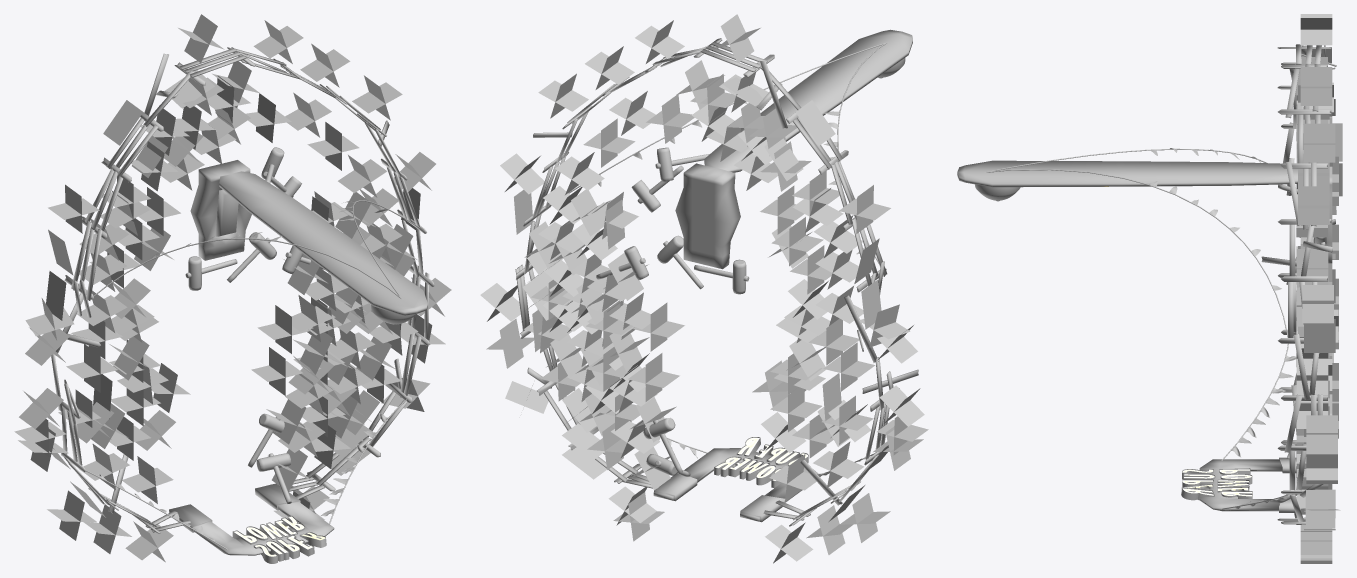
File: SuperPower.fbx
3 views of the same model, side by side, from view 1: azimuth 30°, elevation 25°; view 2: azimuth 150°, elevation 25°; view 3: azimuth 270°, elevation 25° (orthographic). The views are drawn at different scales.
Parts seen in each view (by area): view 1: Object_8, Object_4, Object_5, Object_6, Object_7, Object_2; view 2: Object_8, Object_4, Object_5, Object_6, Object_7; view 3: Object_4, Object_8, Object_5, Object_7, Object_2.
Part boxes in pixels (x1,y1,x2,y2): Object_8: [14, 14, 451, 562]; Object_4: [51, 47, 434, 555]; Object_5: [185, 147, 415, 563]; Object_6: [248, 246, 324, 503]; Object_7: [86, 200, 420, 549]; Object_2: [98, 199, 388, 540]; Object_8: [480, 14, 928, 563]; Object_4: [515, 29, 918, 526]; Object_5: [631, 58, 905, 488]; Object_6: [596, 246, 690, 476]; Object_7: [549, 42, 887, 475]; Object_4: [957, 44, 1336, 524]; Object_8: [1296, 14, 1342, 563]; Object_5: [975, 184, 1326, 500]; Object_7: [984, 148, 1288, 509]; Object_2: [1150, 148, 1299, 508].
Size of the model in its own units: 1698 by 2040 by 1409.
